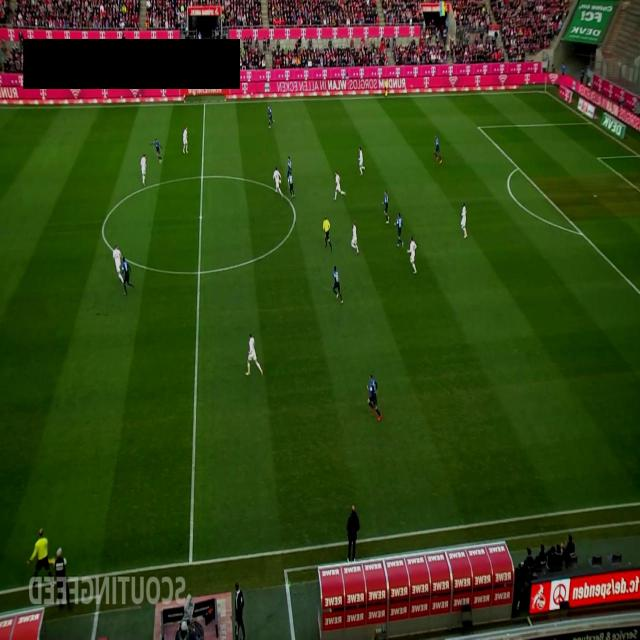ball: (279, 180, 282, 184)
player: (244, 332, 263, 376), (367, 373, 382, 421), (112, 243, 126, 287), (121, 256, 135, 294), (332, 264, 343, 304), (333, 170, 346, 200), (407, 236, 417, 274), (150, 138, 163, 164), (394, 211, 403, 247), (272, 166, 282, 196), (460, 202, 468, 238), (351, 220, 359, 254), (266, 106, 276, 130), (434, 134, 442, 164), (140, 153, 147, 187), (382, 189, 389, 223), (288, 171, 296, 198), (358, 146, 365, 176), (182, 126, 188, 155), (286, 155, 292, 183)
referee: (28, 528, 56, 592), (322, 214, 332, 251), (384, 78, 389, 98)
